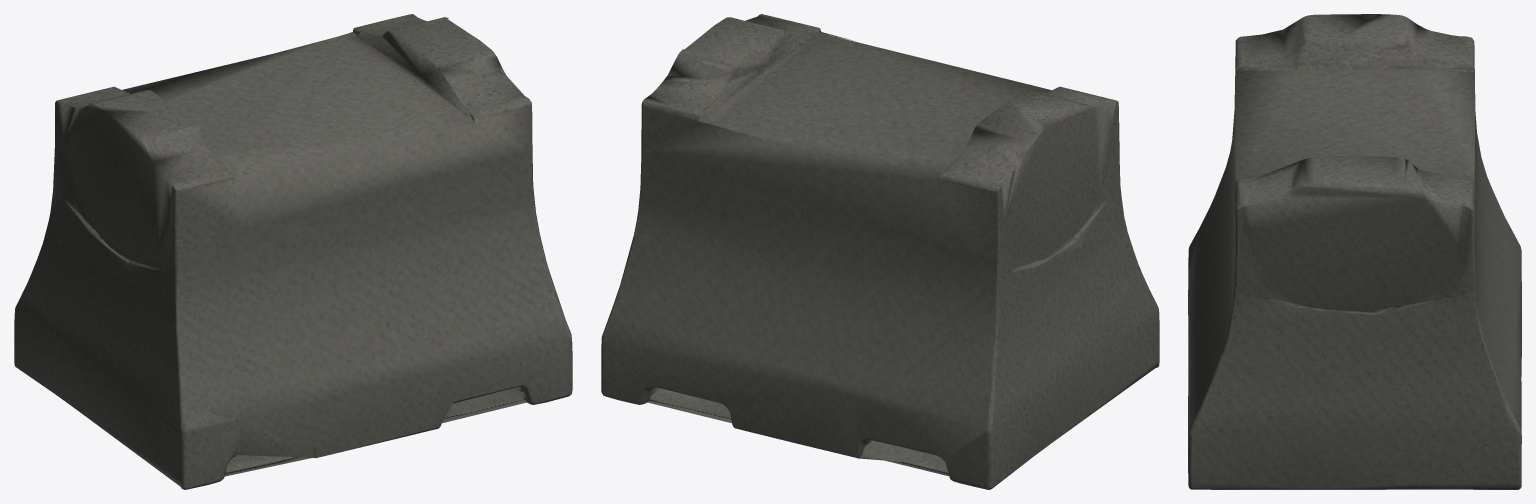
Rendered from barrier.glb.
The picture shows the model from 3 angles, left to right: view 1: azimuth 30°, elevation 25°; view 2: azimuth 150°, elevation 25°; view 3: azimuth 270°, elevation 25°; orthographic projection. The views are drawn at different scales.
Size of the model in its own units: 1.9 by 1.42 by 1.43.
Materials: 1 (1 with a texture image).
